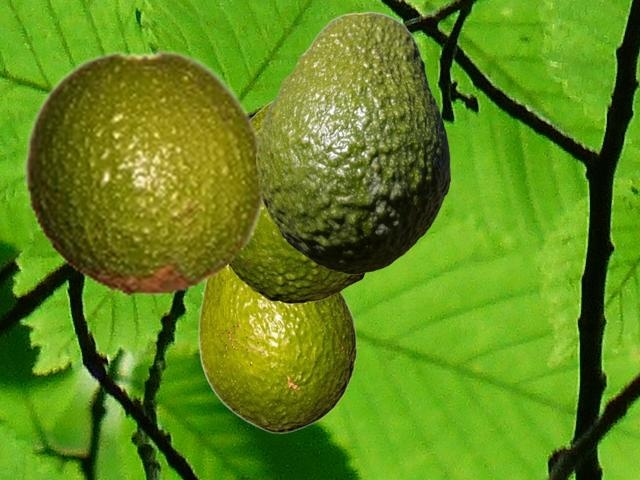avocado: (23, 49, 266, 296), (256, 11, 449, 273), (229, 101, 366, 302), (198, 268, 356, 432)
